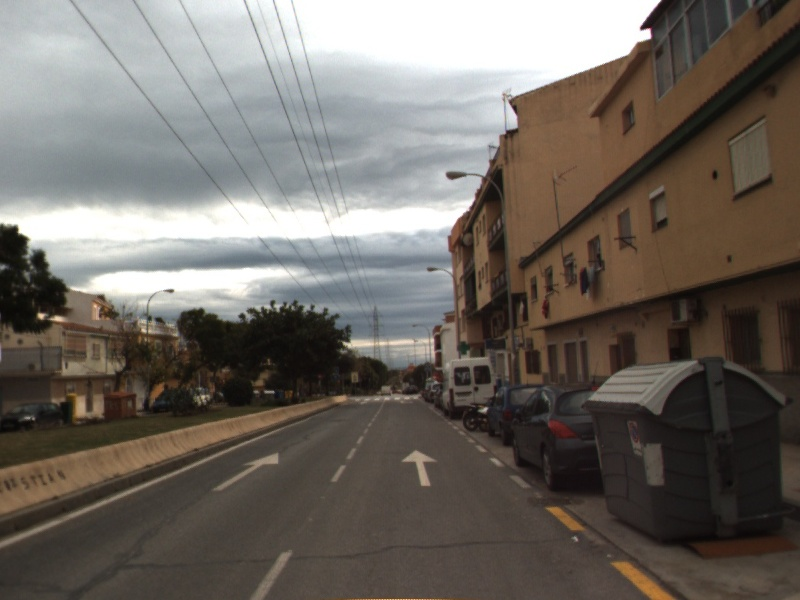STRAIGHT: (209, 450, 281, 493), (400, 447, 440, 488)
